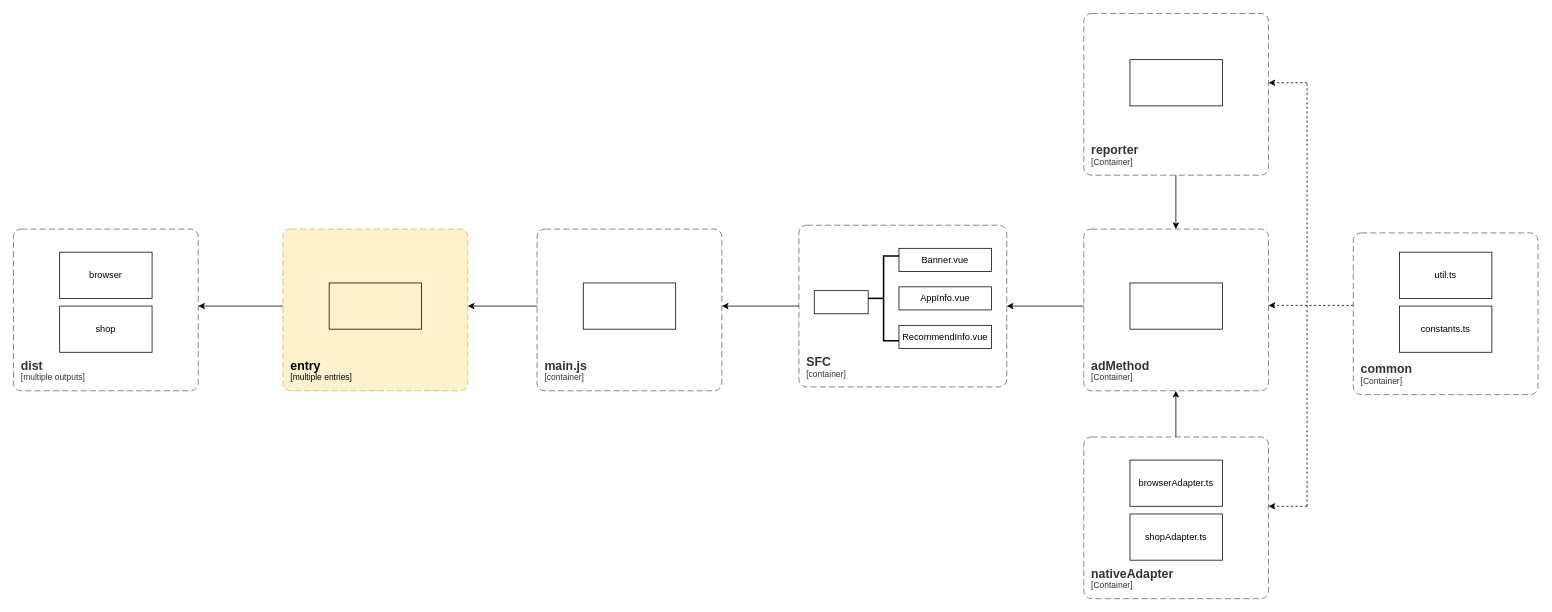
The diagram is 1552 pixels wide and 612 high, and some of its shapes have lost their labels. The shapes that lost their labels are listed below. From the top down, each one's centre as x and y in pixels, then its label:
[1175,82]: baseReporter.ts
[375,305]: index.html
[629,305]: main.js
[841,302]: App.vue
[1175,305]: adMethod.ts
